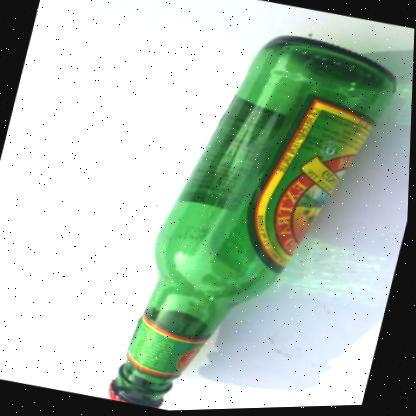Glass: (112, 35, 396, 409)
